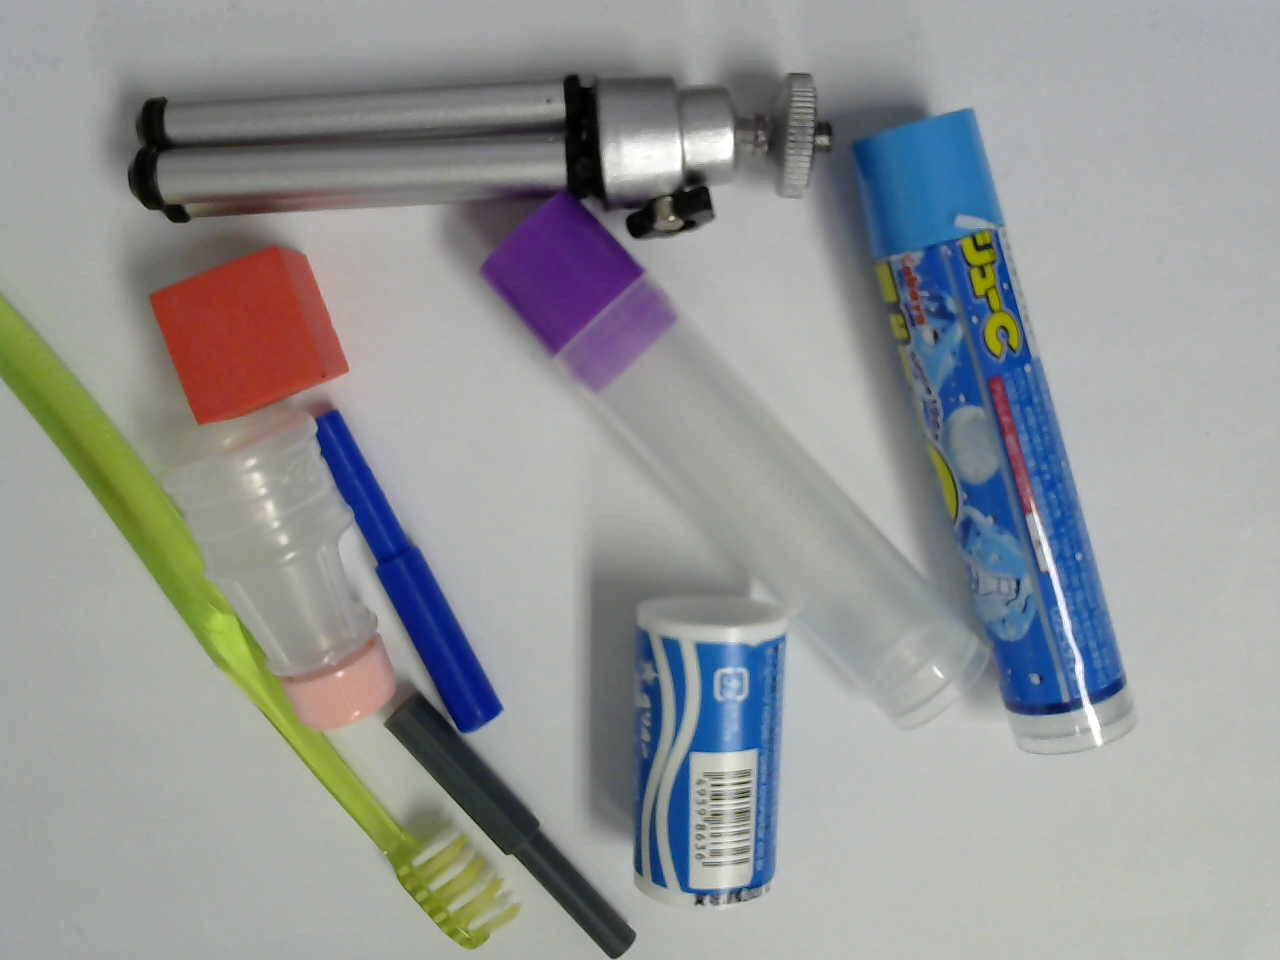block: (150, 244, 352, 425)
brush: (0, 297, 526, 950)
coke: (634, 594, 790, 911)
cup: (163, 415, 400, 730)
dai: (128, 72, 833, 241)
jyuc: (850, 106, 1140, 756)
jyuc_g: (478, 193, 990, 734)
pen2: (313, 408, 503, 733)
pen_gray: (382, 689, 637, 956)
